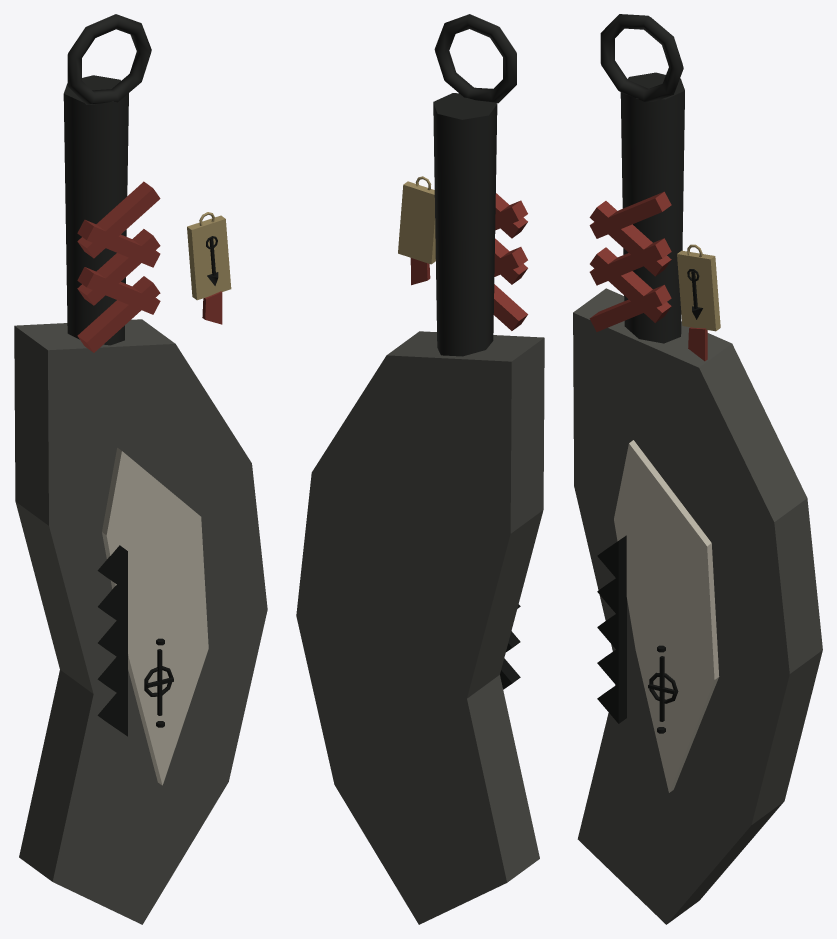
The model's file is fantasy-faceted-hook-knife-v1.glb.
3 views of the same model, side by side, from view 1: azimuth 30°, elevation 25°; view 2: azimuth 150°, elevation 25°; view 3: azimuth 330°, elevation 25° (orthographic). The views are drawn at different scales.
Visible parts, largest first — view 1: Hook Knife; view 2: Hook Knife; view 3: Hook Knife.
Boxes of the visible parts, x1,y1,x2,y2 form: Hook Knife: [14, 14, 267, 924]; Hook Knife: [296, 14, 544, 924]; Hook Knife: [573, 14, 822, 924].
Bounding box in the file's own units: 1.21 × 4.8 × 0.5569.
